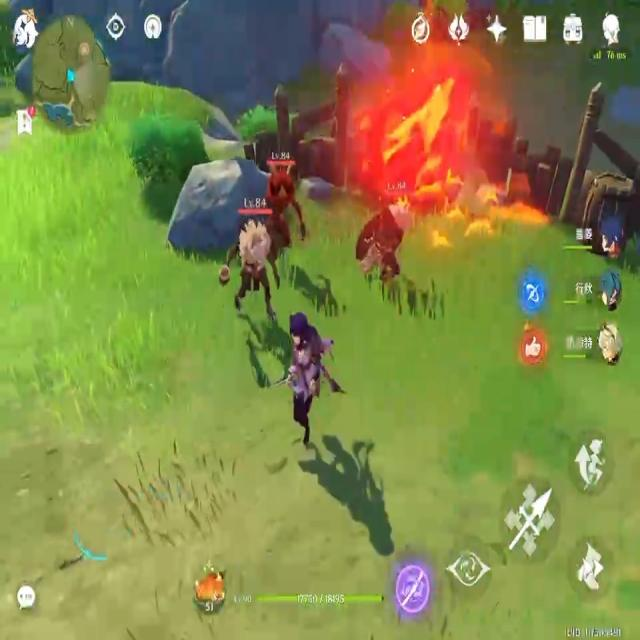genshin-hilichurls: (226, 192, 276, 320), (258, 144, 301, 264), (365, 192, 408, 298)
